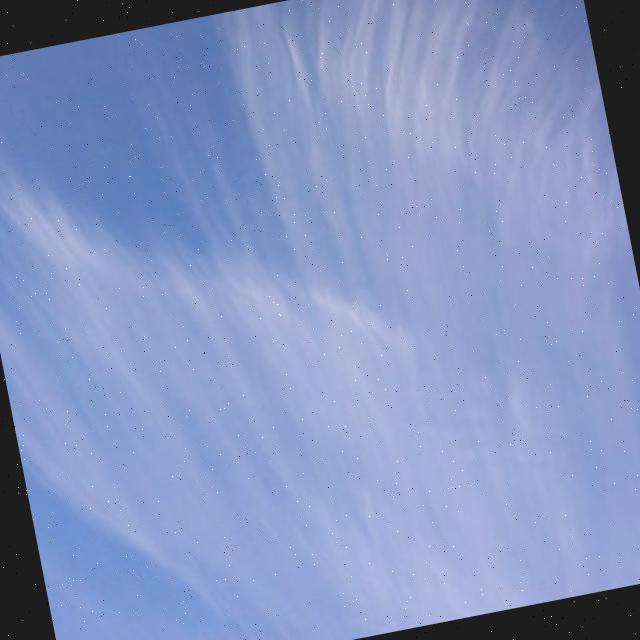Ci: (1, 1, 640, 629)
